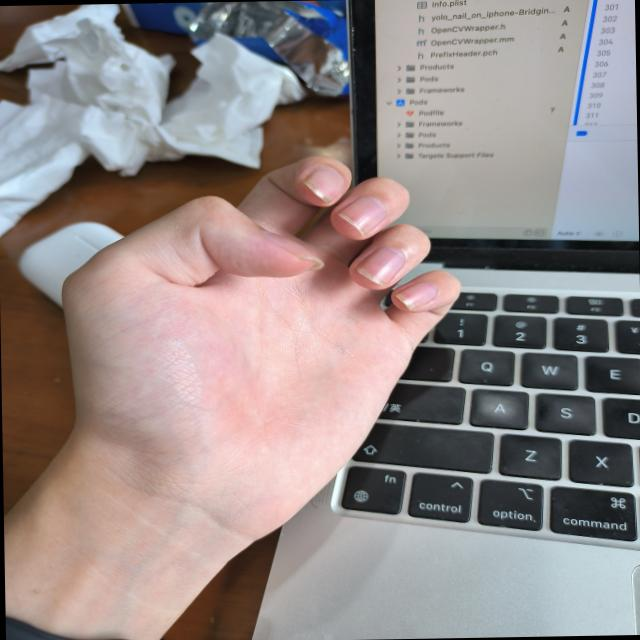Nail: (263, 230, 323, 264), (336, 197, 386, 236), (356, 246, 405, 285), (302, 166, 344, 203), (394, 281, 436, 310)
